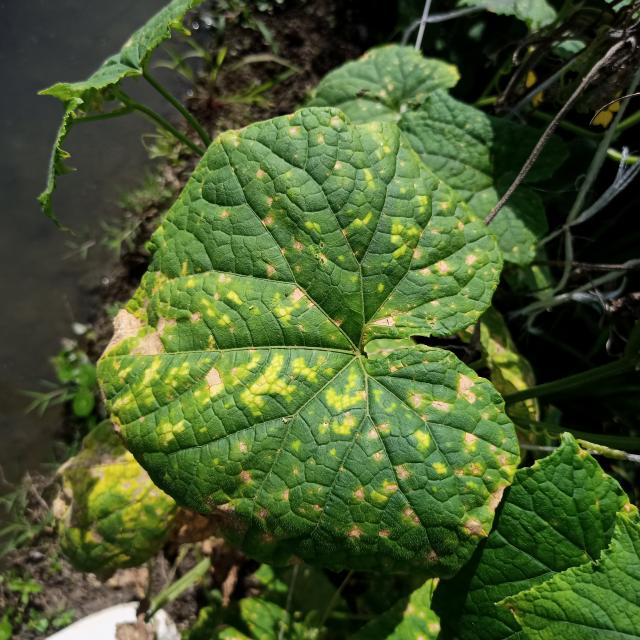disease_cucumber: (105, 138, 516, 573)
